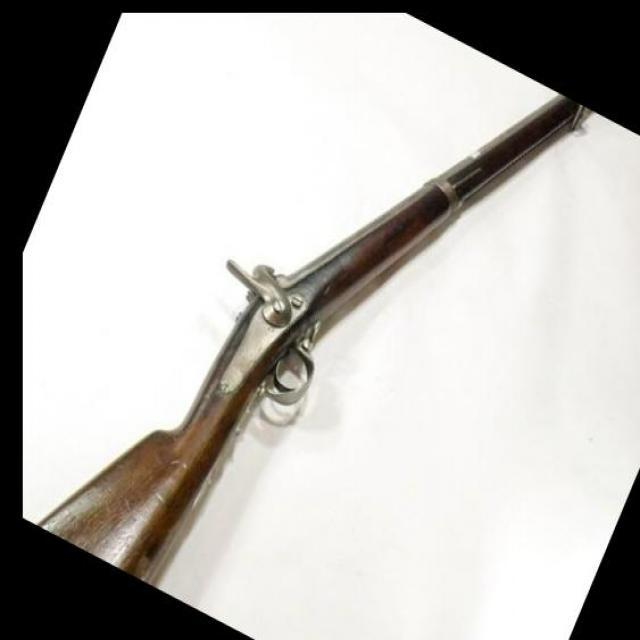weapon: (34, 94, 592, 588)
